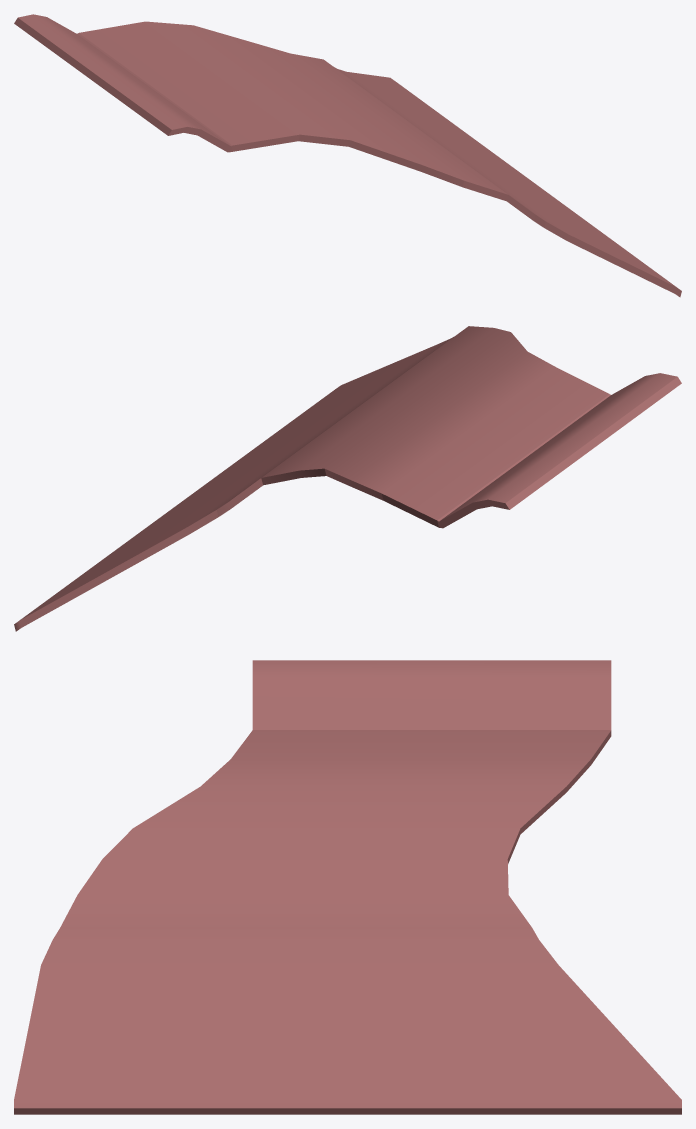
File: Road with Color+.fbx
3 views of the same model, one above another, from view 1: azimuth 30°, elevation 25°; view 2: azimuth 150°, elevation 25°; view 3: azimuth 270°, elevation 25° (orthographic). The views are drawn at different scales.
Parts seen in each view (by area): view 1: pCube3; view 2: pCube3; view 3: pCube3.
Boxes of the visible parts, <box> form: pCube3: <box>14,14,681,297</box>; pCube3: <box>14,326,681,631</box>; pCube3: <box>14,660,681,1114</box>.
Size of the model in its own units: 66.95 by 29.8 by 80.72.
